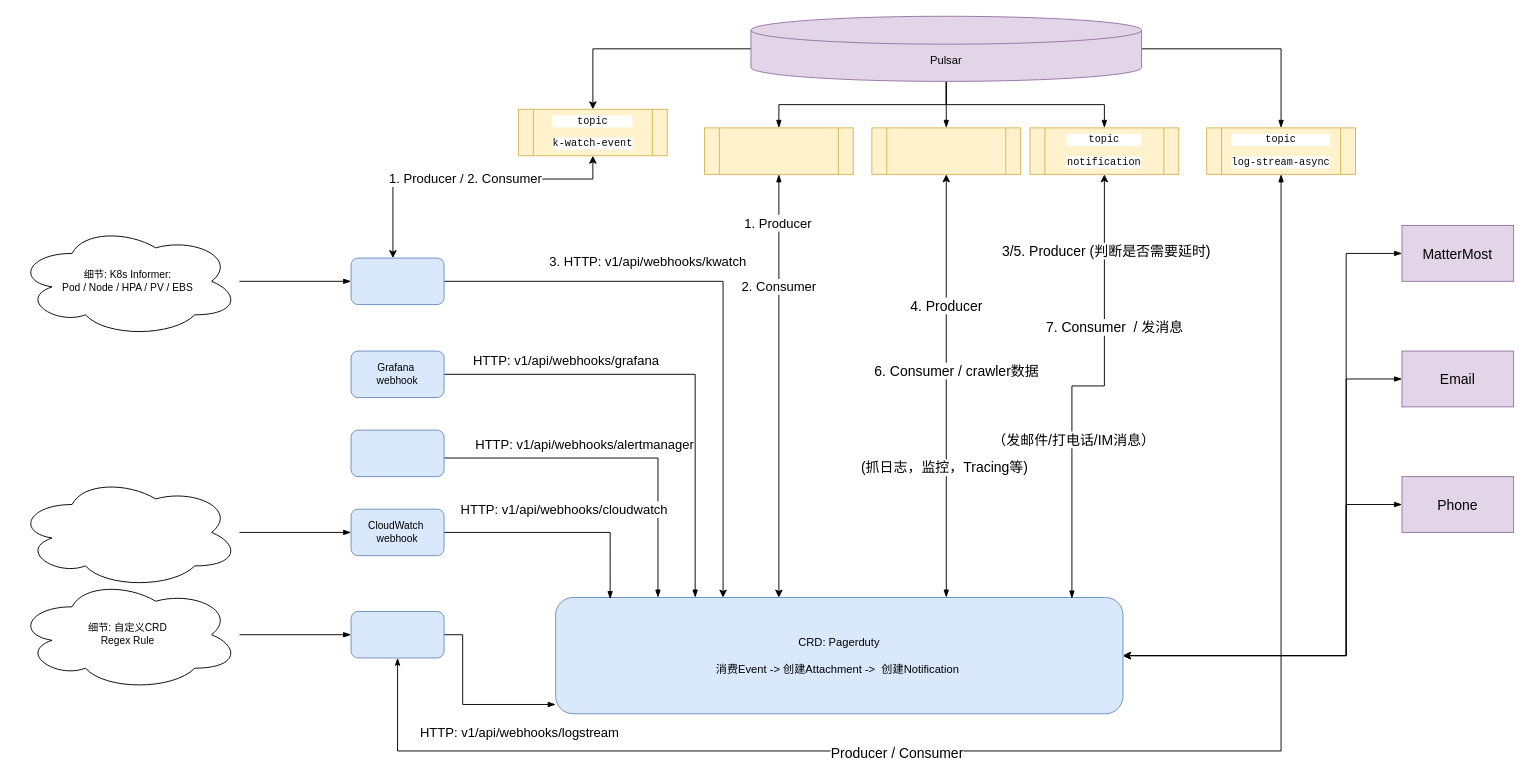
Image size: 1530x777. Some labels were removed from this diagram. The shapes that lost their labels are listed below. From the top down, each one's centre as x and y in pixels, then its label:
[778,150]: topic event
[946,150]: topic attachment
[397,281]: K-Watch webhook
[397,453]: Alertmanager webhook
[127,532]: 细节: Lambda CloudWatch 告警
[397,634]: logstream webhook
